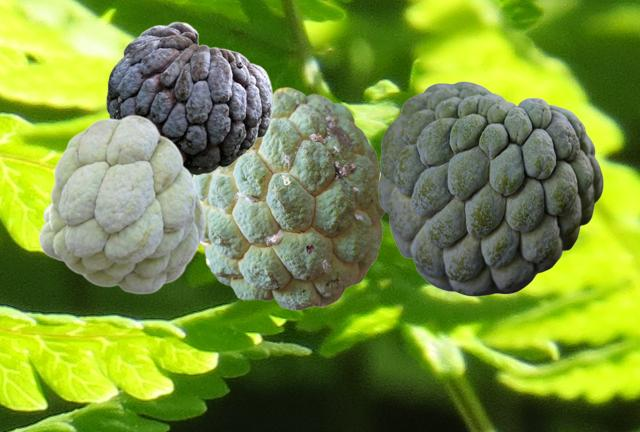atis: (378, 81, 602, 295), (193, 87, 385, 309), (38, 114, 205, 293), (106, 21, 272, 174)
